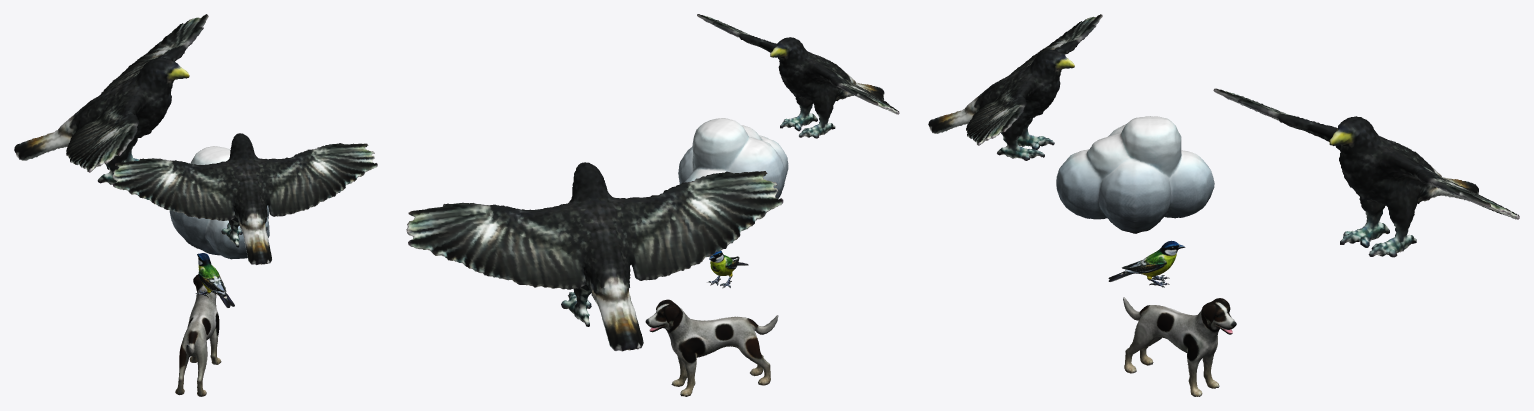
File: condor3.glb
The picture shows the model from 3 angles, left to right: view 1: azimuth 30°, elevation 25°; view 2: azimuth 150°, elevation 25°; view 3: azimuth 270°, elevation 25°; orthographic projection. The views are drawn at different scales.
Visible parts, largest first — view 1: Mesh_0.004, Mesh_0.003, Mesh_0.001, Mesh_0, Mesh_0.002; view 2: Mesh_0.003, Mesh_0.004, Mesh_0.001, Mesh_0, Mesh_0.002; view 3: Mesh_0, Mesh_0.003, Mesh_0.004, Mesh_0.001, Mesh_0.002.
Part boxes in pixels (x1,y1,x2,y2): Mesh_0.004: [112, 133, 377, 264]; Mesh_0.003: [14, 14, 208, 184]; Mesh_0.001: [175, 274, 221, 396]; Mesh_0: [169, 146, 269, 259]; Mesh_0.002: [195, 253, 234, 307]; Mesh_0.003: [406, 162, 783, 351]; Mesh_0.004: [697, 14, 899, 138]; Mesh_0.001: [645, 299, 778, 396]; Mesh_0: [678, 118, 788, 212]; Mesh_0.002: [707, 250, 748, 288]; Mesh_0: [1056, 116, 1214, 233]; Mesh_0.003: [1213, 88, 1519, 257]; Mesh_0.004: [928, 14, 1102, 160]; Mesh_0.001: [1123, 297, 1236, 396]; Mesh_0.002: [1108, 240, 1185, 287].
Bounding box in the file's own units: 33.64 × 33.28 × 55.14.
Materials: 4 (4 with a texture image).
